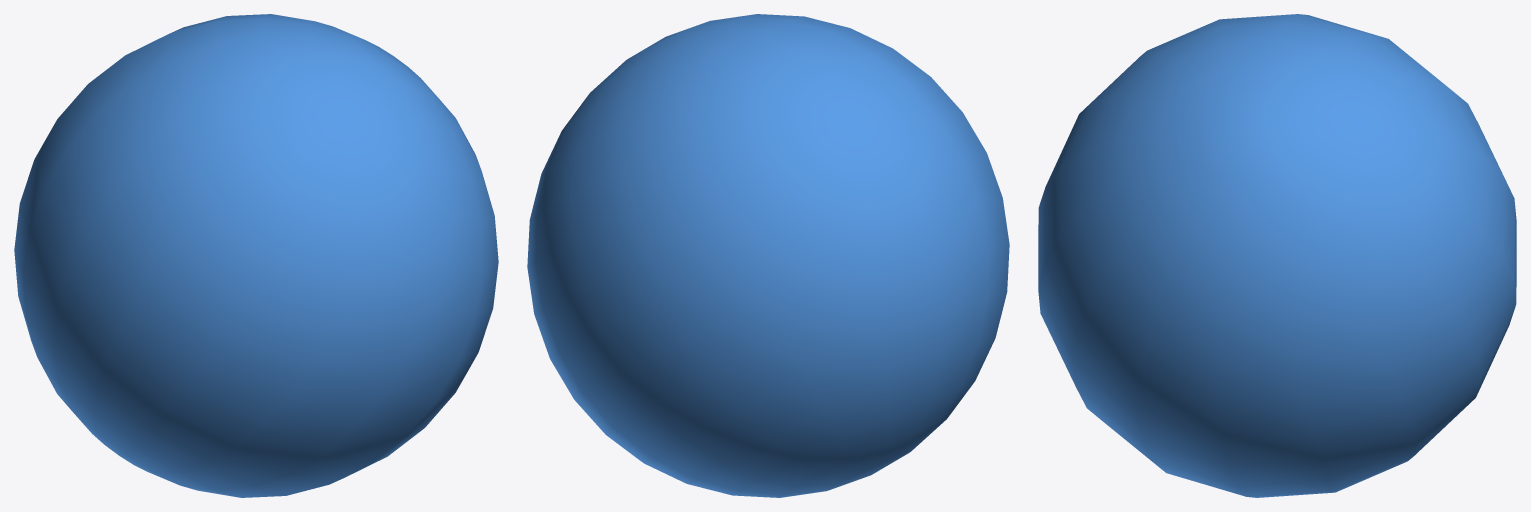
3 renders of one model, left to right at view 1: azimuth 30°, elevation 25°; view 2: azimuth 150°, elevation 25°; view 3: azimuth 270°, elevation 25°, orthographic.
Parts seen in each view (by area): view 1: orb5.008; view 2: orb5.008; view 3: orb5.008.
Boxes of the visible parts, left/top/right/bottom form: orb5.008: left=14, top=14, right=498, bottom=497; orb5.008: left=527, top=14, right=1009, bottom=497; orb5.008: left=1038, top=14, right=1516, bottom=497.
Size of the model in its own units: 0.3988 by 0.3996 by 0.3924.
